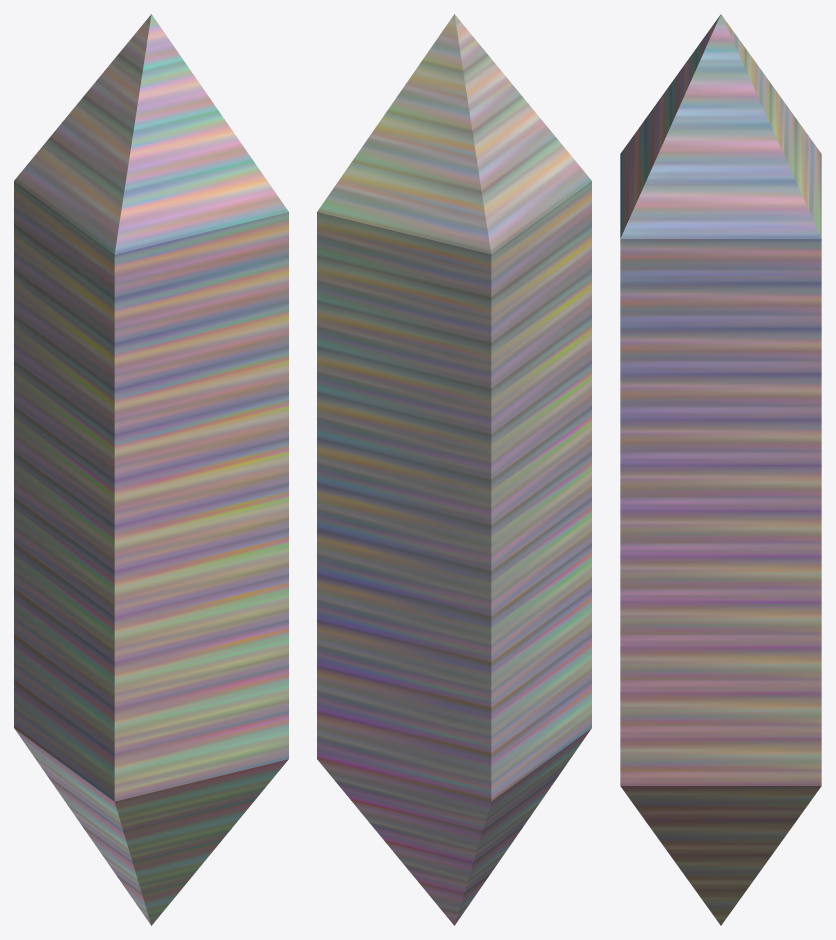
The model's file is station_mastery_crystal_rear.obj.
3 views of the same model, side by side, from view 1: azimuth 30°, elevation 25°; view 2: azimuth 150°, elevation 25°; view 3: azimuth 270°, elevation 25° (orthographic).
Parts seen in each view (by area): view 1: MASTERY_CRYSTAL_REAR_Cube.045; view 2: MASTERY_CRYSTAL_REAR_Cube.045; view 3: MASTERY_CRYSTAL_REAR_Cube.045.
Part boxes in pixels (x1,y1,x2,y2): MASTERY_CRYSTAL_REAR_Cube.045: [14, 14, 288, 925]; MASTERY_CRYSTAL_REAR_Cube.045: [317, 14, 591, 925]; MASTERY_CRYSTAL_REAR_Cube.045: [620, 14, 821, 925].
Bounding box in the file's own units: 0.125 × 0.625 × 0.125.
